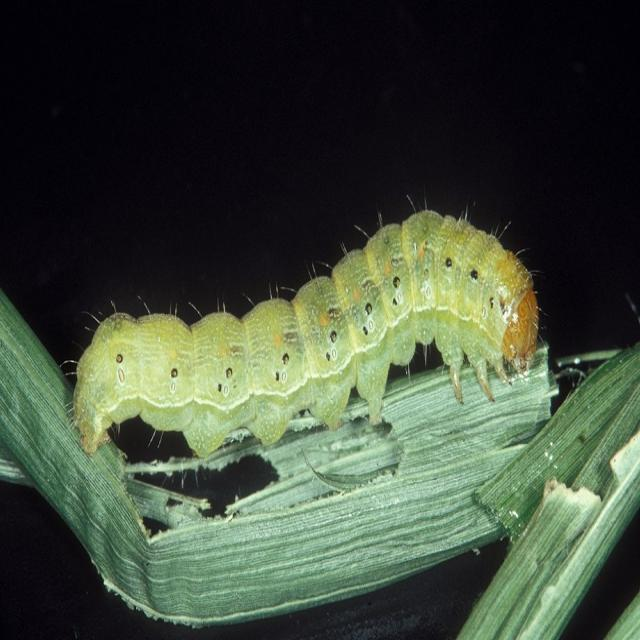worm: (61, 193, 546, 468)
